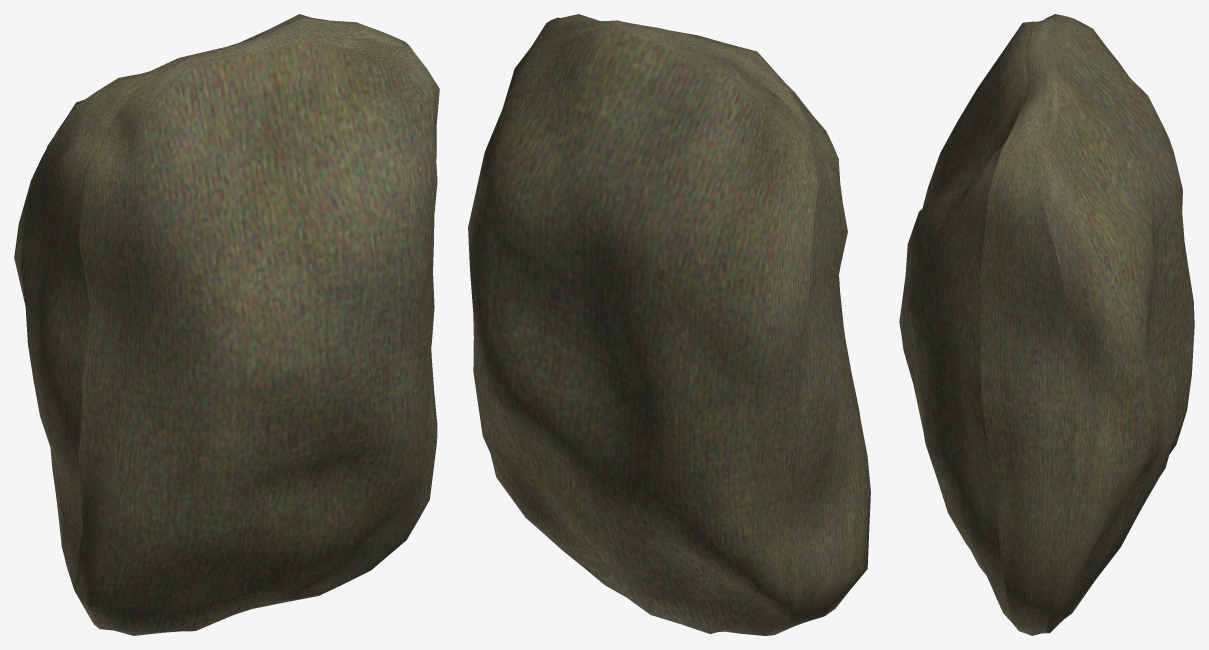
Rendered from Sack.fbx.
3 renders of one model, left to right at view 1: azimuth 30°, elevation 25°; view 2: azimuth 150°, elevation 25°; view 3: azimuth 270°, elevation 25°, orthographic. The views are drawn at different scales.
Parts seen in each view (by area): view 1: Cube; view 2: Cube; view 3: Cube.
Part boxes in pixels (<box>): Cube: <box>14,14,439,635</box>; Cube: <box>468,14,870,635</box>; Cube: <box>899,14,1194,635</box>.
Size of the model in its own units: 133 by 201 by 95.3.
